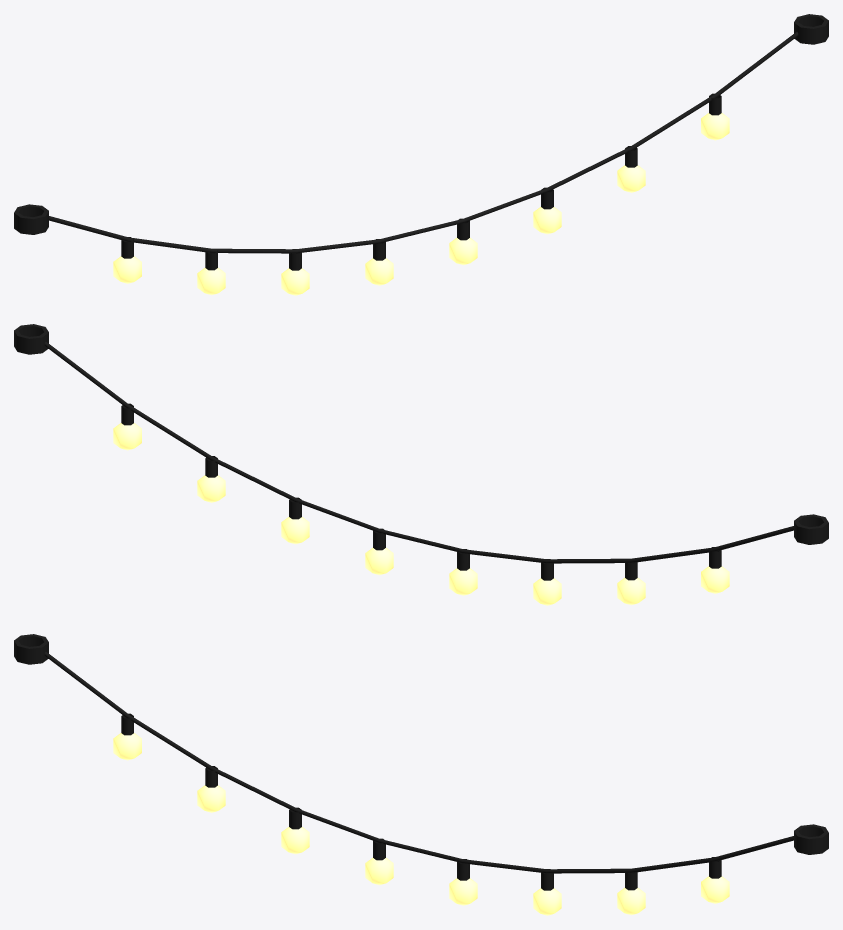
The model's file is guirnalda_luces_chico.glb.
3 views of the same model, one above another, from view 1: azimuth 30°, elevation 25°; view 2: azimuth 150°, elevation 25°; view 3: azimuth 330°, elevation 25° (orthographic).
Parts seen in each view (by area): view 1: guirnalda_luces_chico_cuerpo, pieza_lamparitas; view 2: guirnalda_luces_chico_cuerpo, pieza_lamparitas; view 3: guirnalda_luces_chico_cuerpo, pieza_lamparitas.
Boxes of the visible parts, x1=… form: guirnalda_luces_chico_cuerpo: x1=14, y1=14, x2=828, y2=270; pieza_lamparitas: x1=113, y1=113, x2=729, y2=295; guirnalda_luces_chico_cuerpo: x1=14, y1=324, x2=828, y2=580; pieza_lamparitas: x1=113, y1=423, x2=729, y2=605; guirnalda_luces_chico_cuerpo: x1=14, y1=634, x2=828, y2=890; pieza_lamparitas: x1=113, y1=733, x2=729, y2=915.
Bounding box in the file's own units: 1.6 × 0.3 × 0.056.
